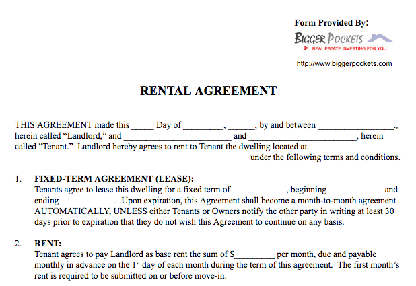textline: (13, 151, 250, 164), (318, 114, 396, 131), (180, 118, 256, 131), (328, 183, 384, 196), (231, 184, 287, 196), (60, 194, 116, 206), (234, 248, 275, 261), (181, 122, 223, 130), (228, 122, 255, 130), (131, 123, 154, 131)
